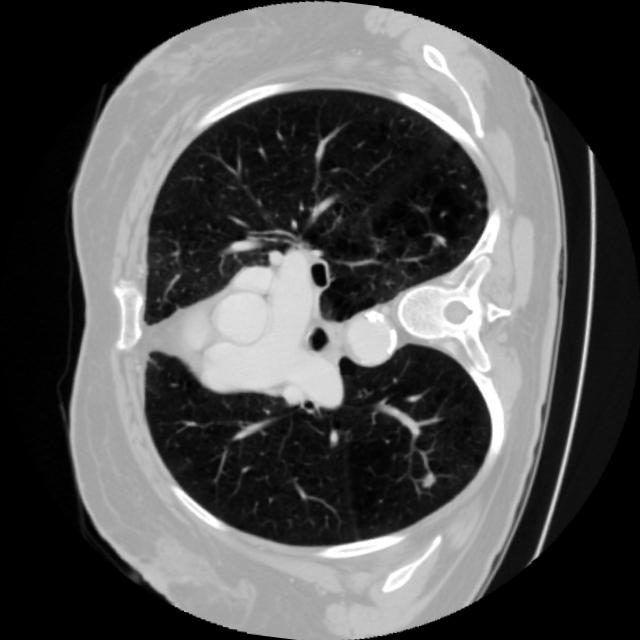nodule: (410, 460, 443, 493)
